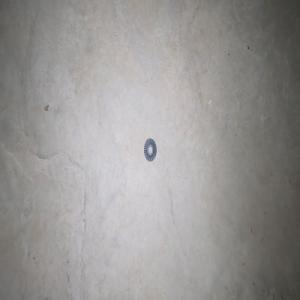Washer: (143, 138, 156, 161)
